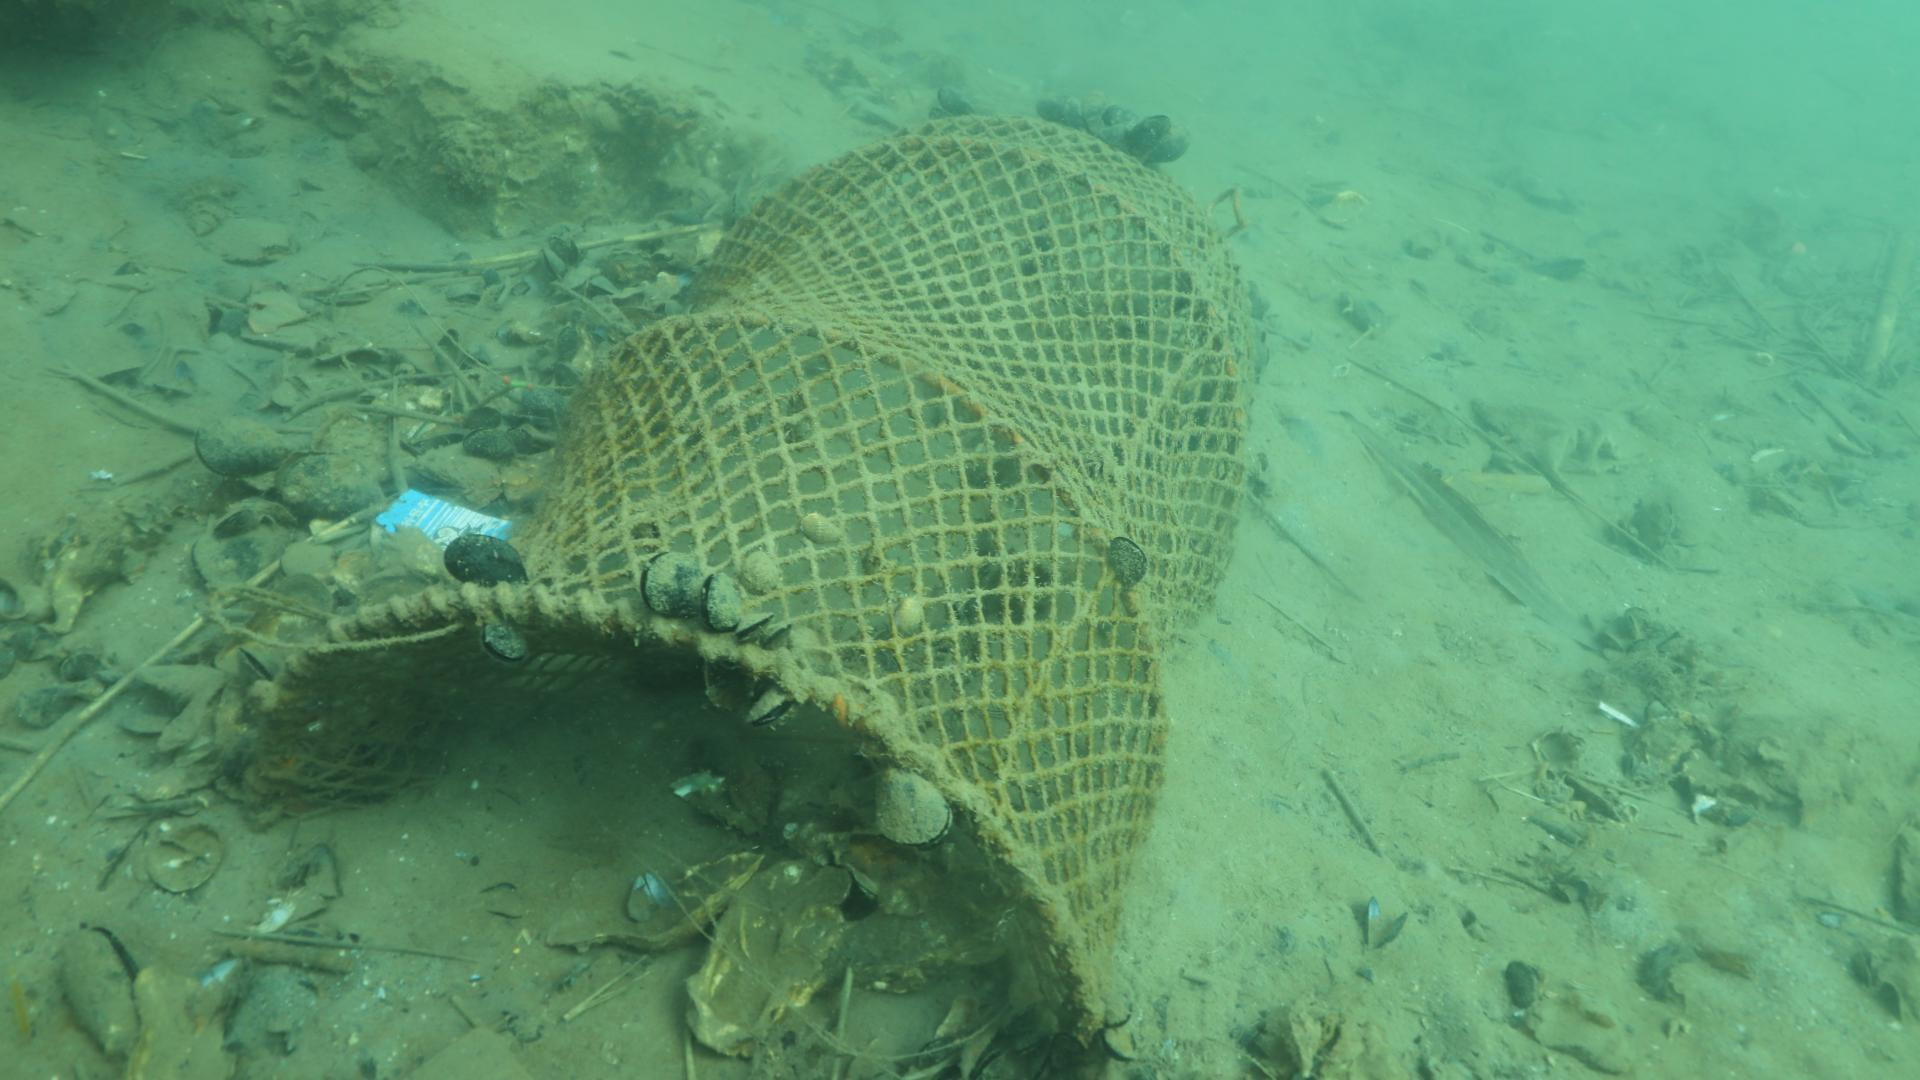spring fish trap: (216, 113, 1259, 1080)
